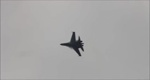maybay_muctieu: (58, 31, 86, 57)
